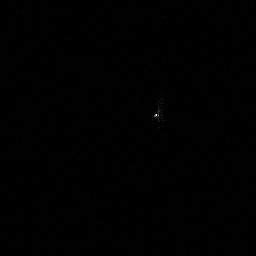ship: (152, 101, 166, 125)
